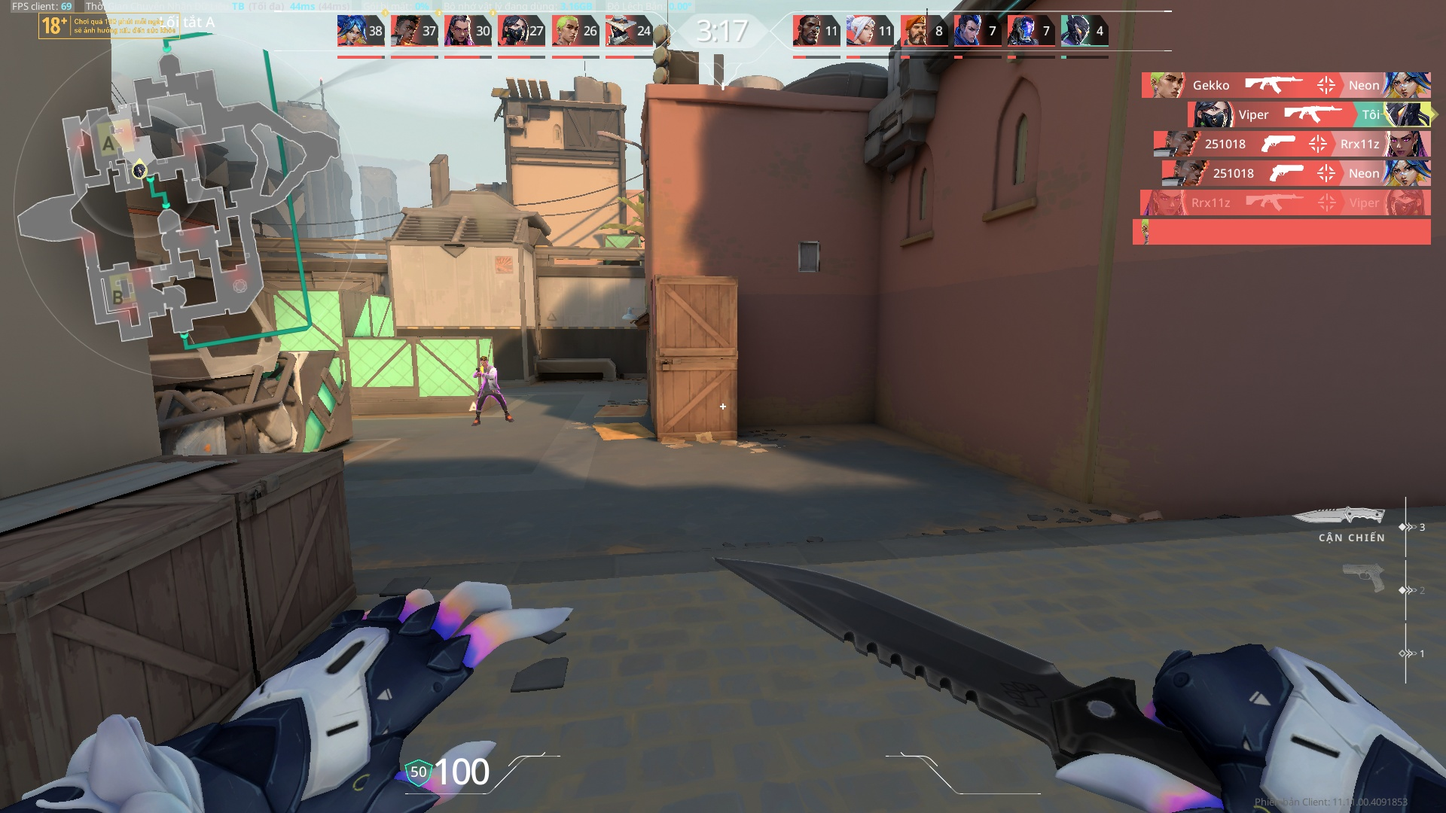body: (475, 365, 499, 393)
head: (477, 353, 489, 367)
